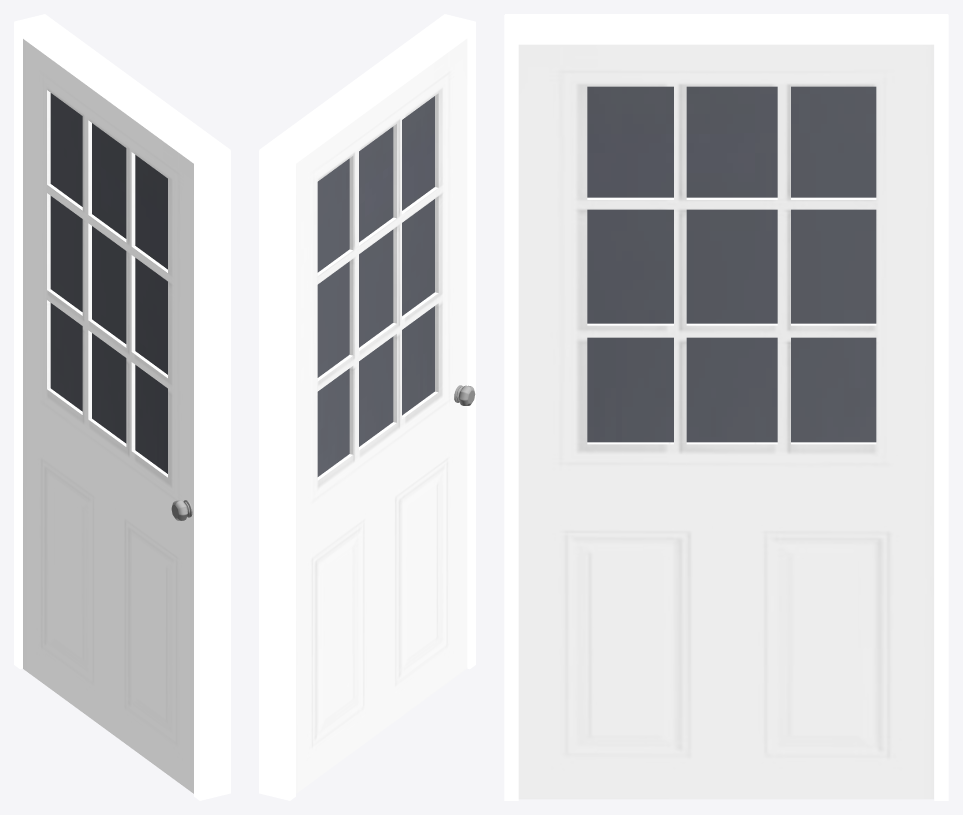
The model's file is 9_lite_r_swing_walkin.dd31988e.gltf.
3 views of the same model, side by side, from view 1: azimuth 30°, elevation 25°; view 2: azimuth 150°, elevation 25°; view 3: azimuth 270°, elevation 25° (orthographic). The views are drawn at different scales.
Parts seen in each view (by area): view 1: door, trims, Glass; view 2: door, trims, Glass; view 3: door, Glass, trims.
Part boxes in pixels (x1,y1,x2,y2): door: (23,39,193,793); trims: (14,14,230,800); Glass: (50,93,167,473); door: (296,39,467,793); trims: (259,14,475,800); Glass: (317,96,434,476); door: (518,44,933,799); Glass: (587,86,876,442); trims: (504,14,948,800).
Bounding box in the file's own units: 0.4023 × 6.01 × 3.14.
Materials: 4 (2 with a texture image).
